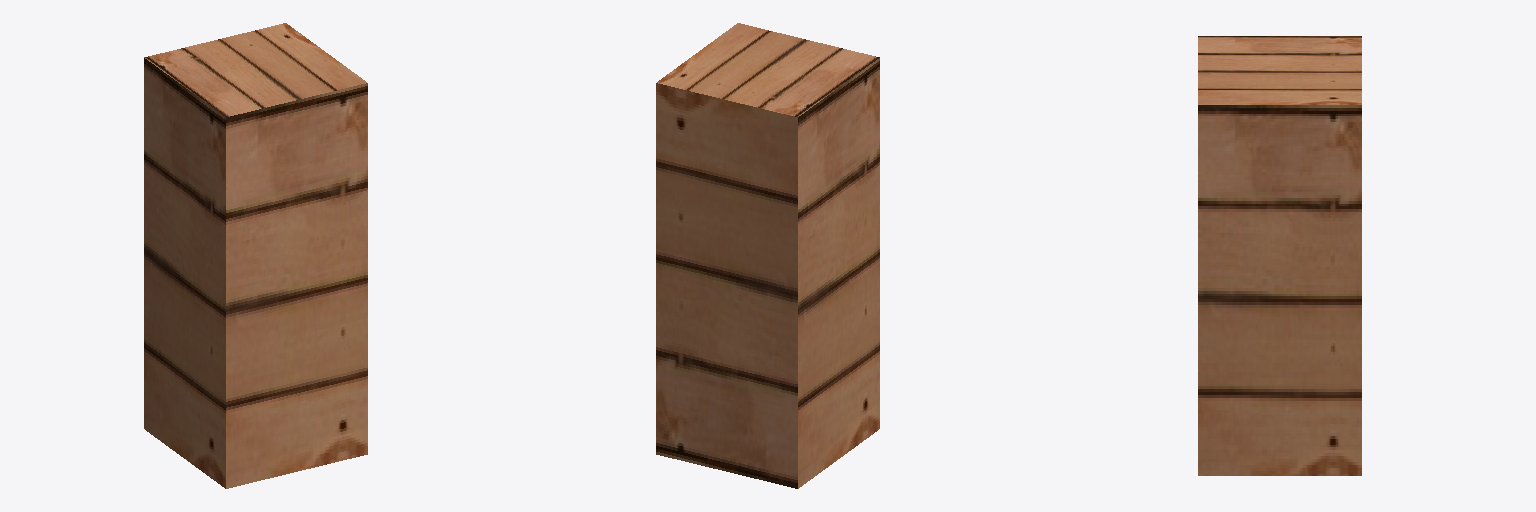
3 views of the same model, side by side, from view 1: azimuth 30°, elevation 25°; view 2: azimuth 150°, elevation 25°; view 3: azimuth 270°, elevation 25° (orthographic).
Visible parts, largest first — view 1: Cube_Cube.001; view 2: Cube_Cube.001; view 3: Cube_Cube.001.
Part boxes in pixels (left/top/right/bottom): Cube_Cube.001: left=144, top=23, right=367, bottom=488; Cube_Cube.001: left=656, top=23, right=879, bottom=488; Cube_Cube.001: left=1198, top=36, right=1361, bottom=475.
Size of the model in its own units: 2 by 5 by 2.
1 materials, 1 textured.